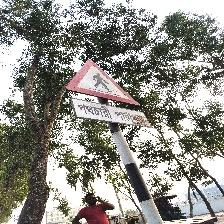Pedestrian-crossing: (65, 58, 152, 129)
